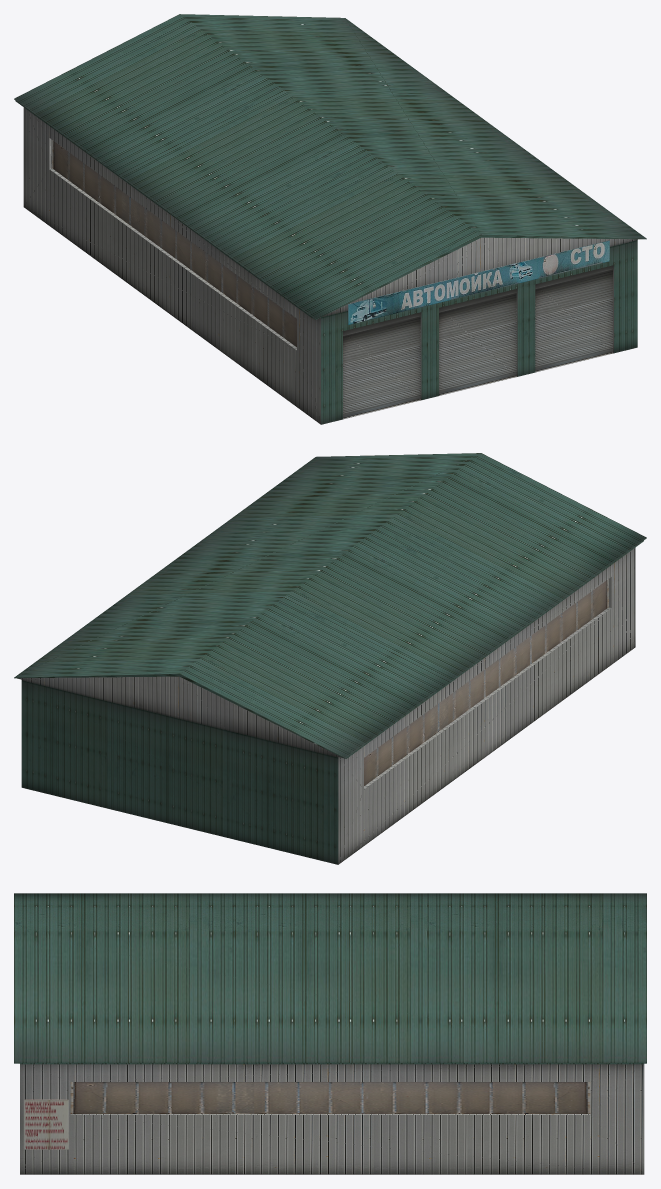
The model's file is e30_angar.FBX.
3 renders of one model, top to bottom at view 1: azimuth 30°, elevation 25°; view 2: azimuth 150°, elevation 25°; view 3: azimuth 270°, elevation 25°, orthographic. The views are drawn at different scales.
Visible parts, largest first — view 1: e30_angar; view 2: e30_angar; view 3: e30_angar.
Part boxes in pixels (x1=…): e30_angar: x1=14, y1=14, x2=646, y2=424; e30_angar: x1=14, y1=453, x2=646, y2=864; e30_angar: x1=14, y1=893, x2=646, y2=1174.
Size of the model in its own units: 15.85 by 25 by 7.02.
